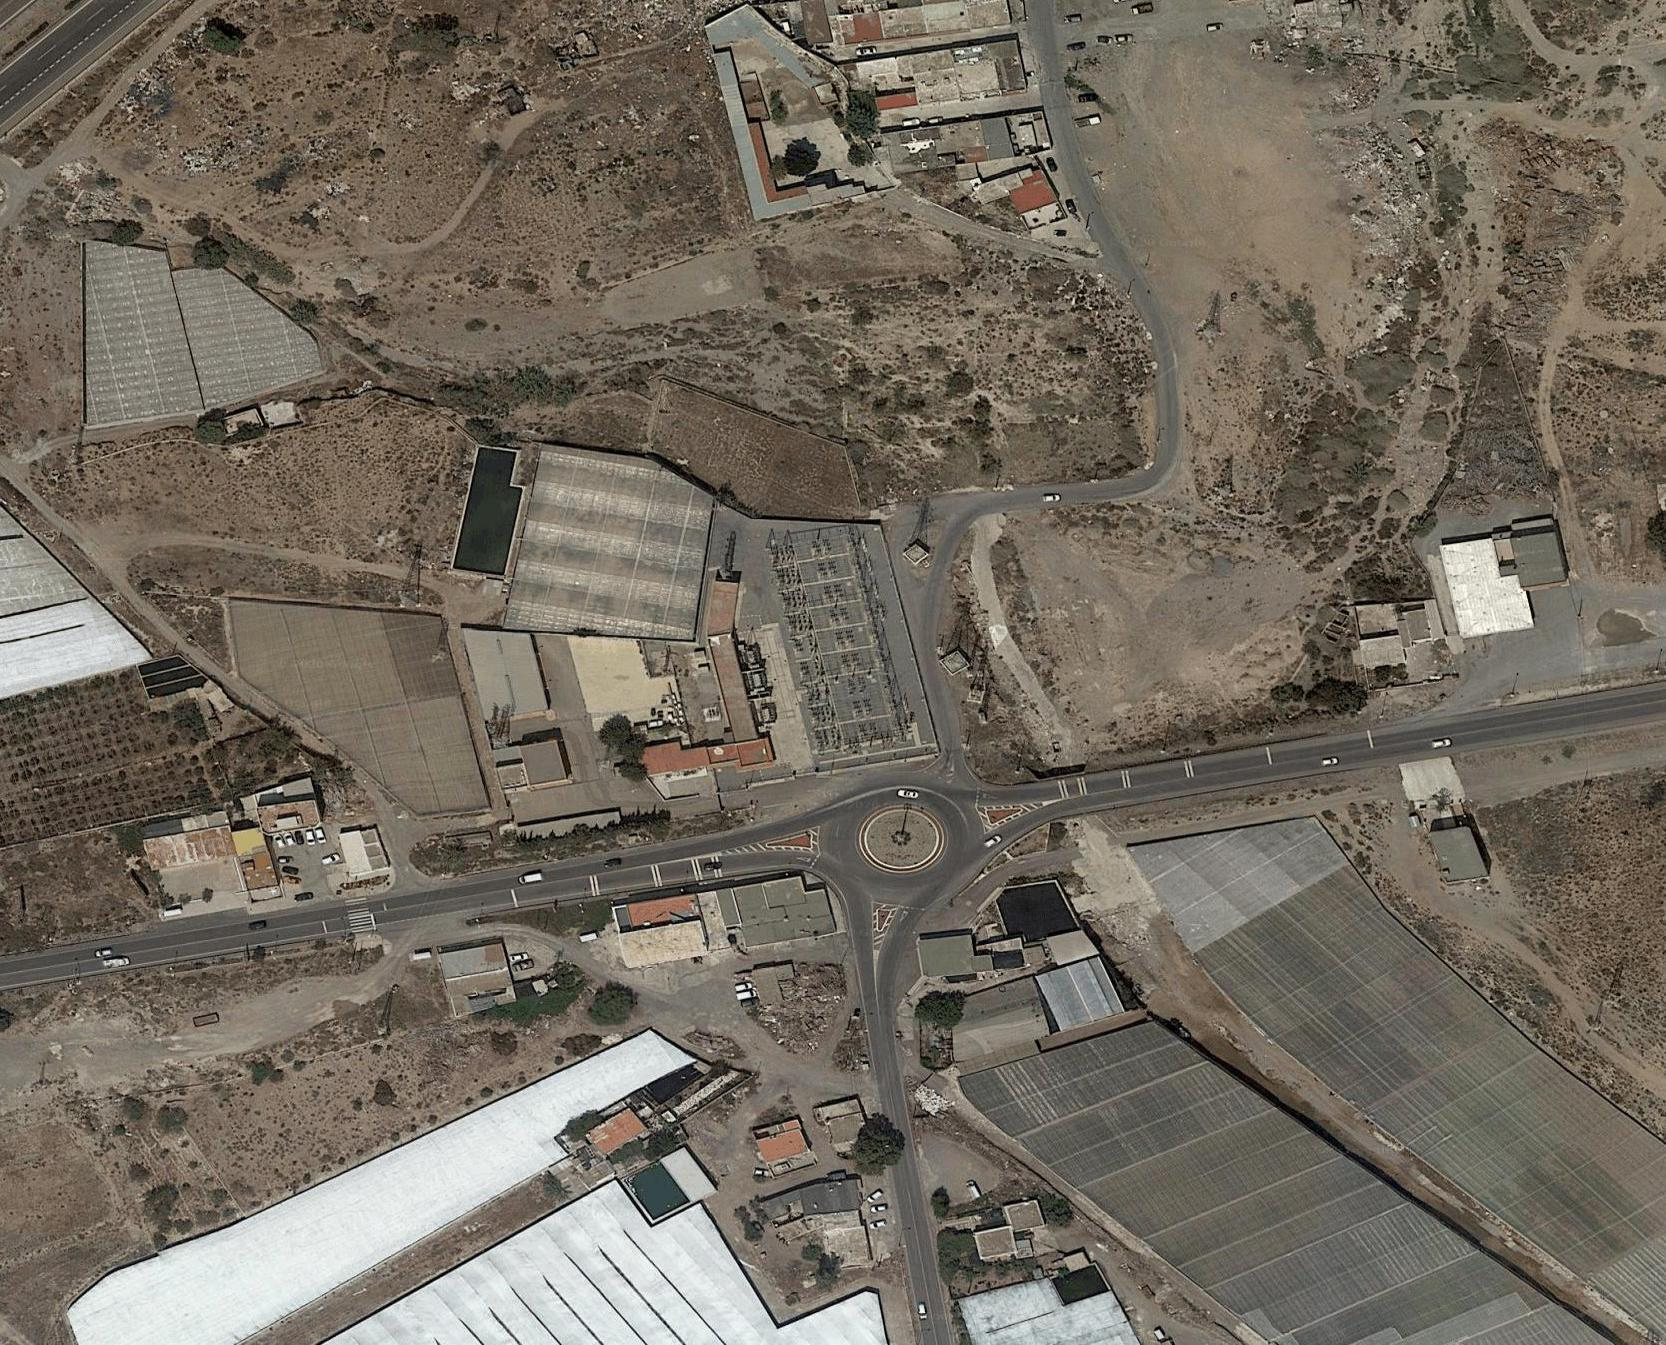substation: (730, 511, 922, 766)
